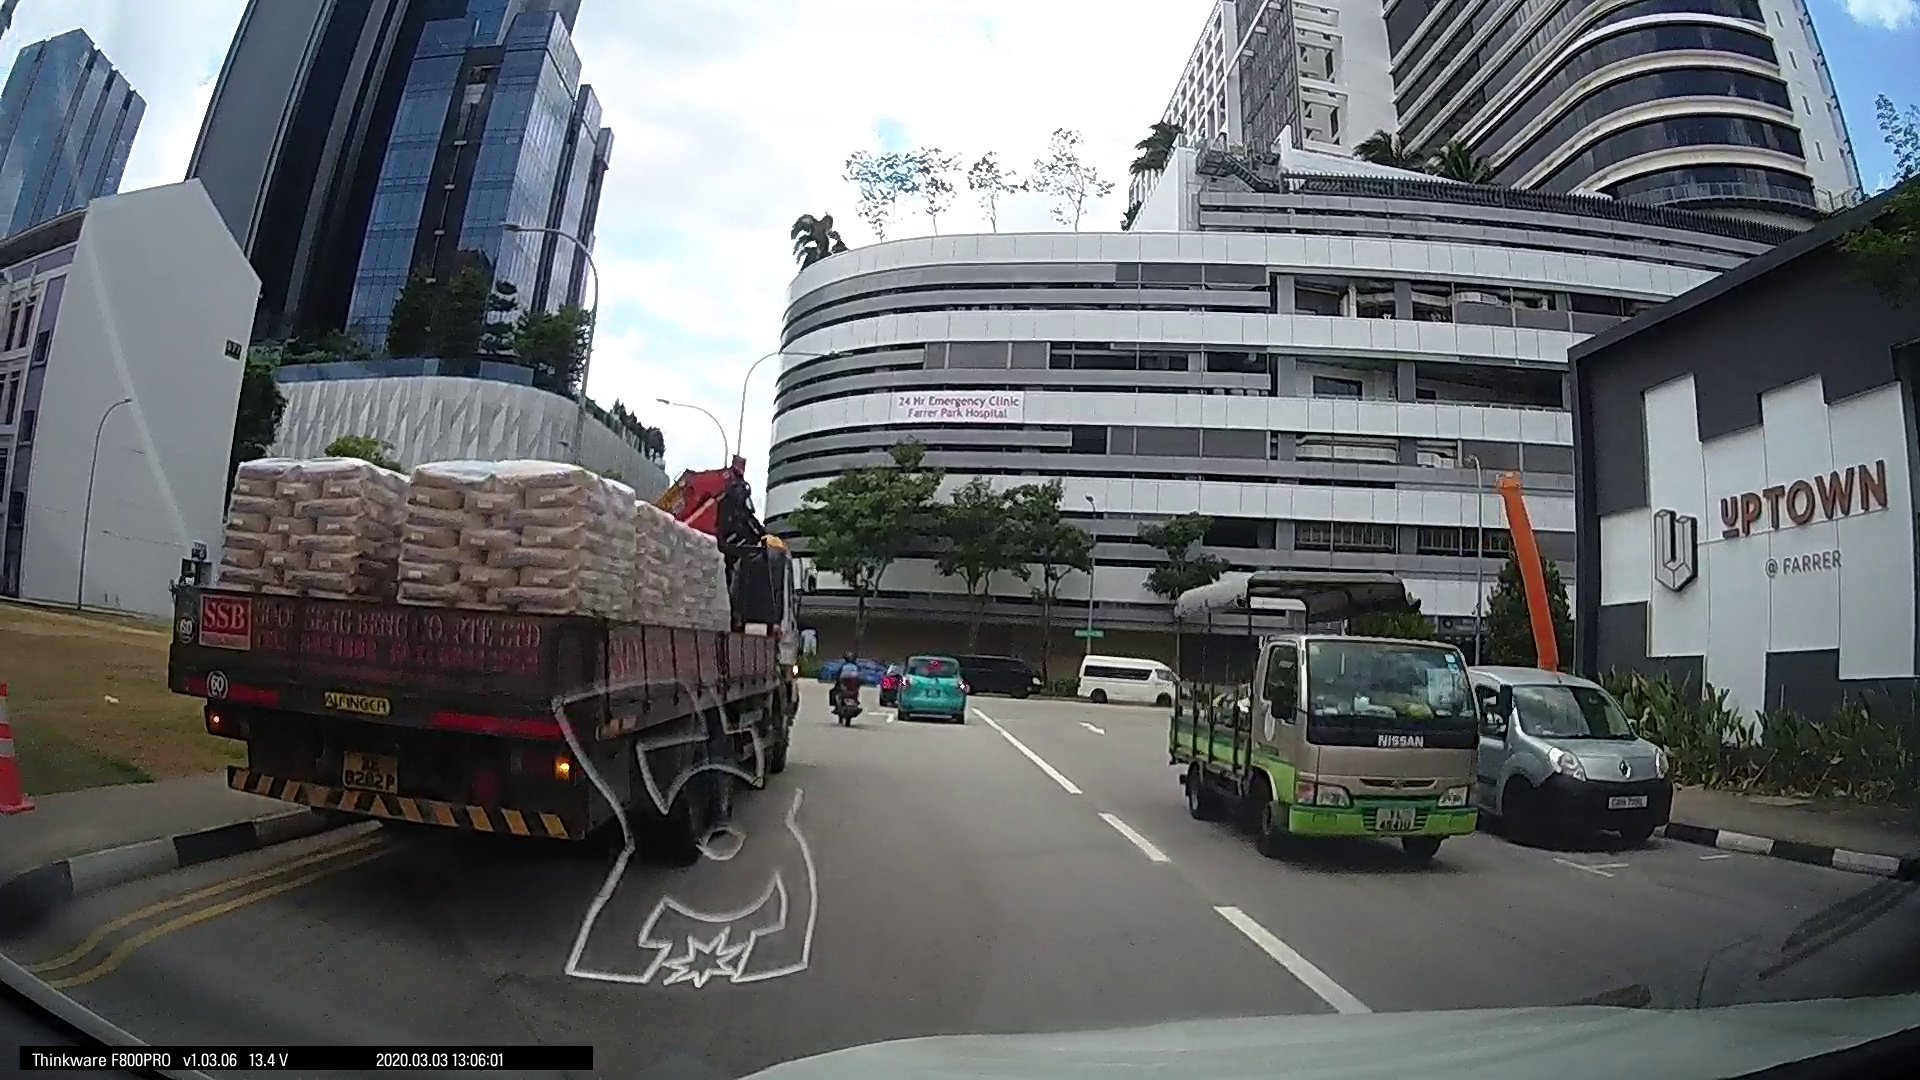Heavy Vehicle: (171, 380, 793, 862), (1170, 611, 1480, 864)
Light Vehicle: (1458, 667, 1673, 848), (1067, 649, 1179, 709), (891, 655, 964, 723)
